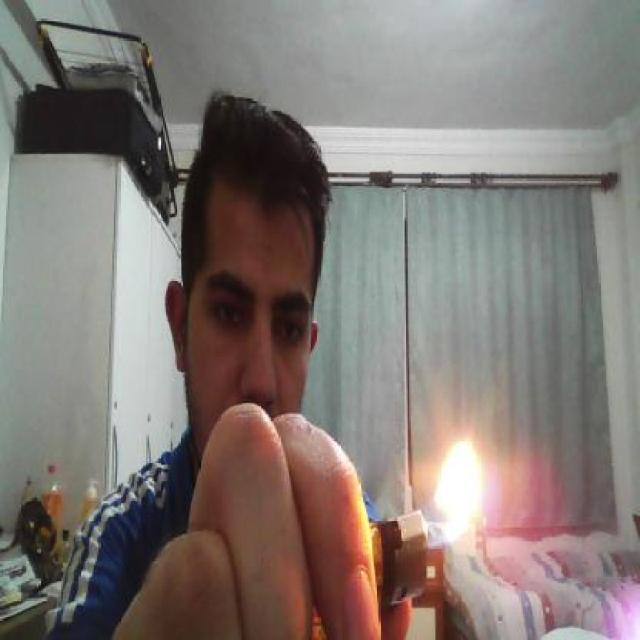Fire: (444, 410, 491, 547)
